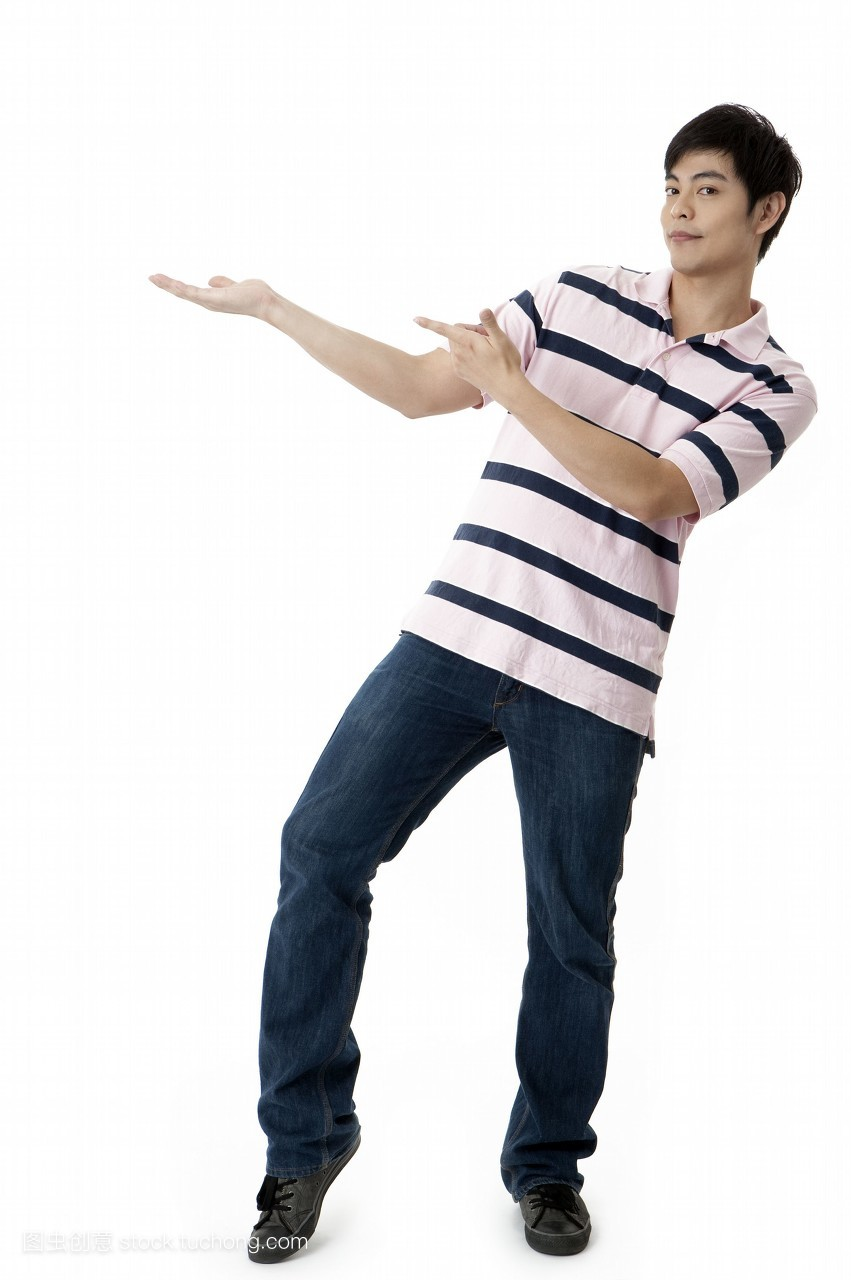other: (118, 96, 824, 1269)
